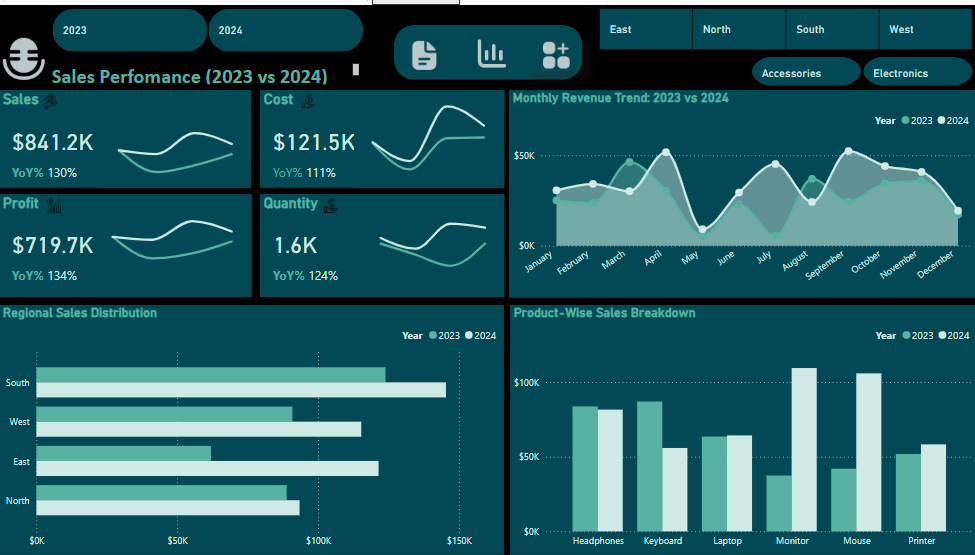

The page's visual inventory and layout, read from the dashboard file:
{"tool":"powerbi","page":{"name":"Page 1","canvas":[1280,720],"ordinal":0},"visuals":[{"type":"cardVisual","title":"Profit","fields":{"Data":["Sheet1.Sum of Sales minus Sum of Cost"]},"box":[0,247.7,331.2,135.4],"z":0},{"type":"cardVisual","title":"Quantity","fields":{"Data":["Sum(Sheet1.Quantity)"]},"box":[341.3,247.7,319.7,135.4],"z":1000},{"type":"lineChart","title":"Monthly  Revenue Trend: 2023 vs 2024","fields":{"Category":["Sheet1.Date.Variation.Date Hierarchy.Year","Sheet1.Date.Variation.Date Hierarchy.Month"],"Series":["Sheet1.Date.Variation.Date Hierarchy.Year"],"Y":["Sheet1.profit"]},"box":[668.2,110.9,612,272.2],"z":2000},{"type":"clusteredColumnChart","title":"Product-Wise Sales Breakdown","fields":{"Category":["Sheet1.Date.Variation.Date Hierarchy.Year","Sheet1.Product"],"Y":["Sum(Sheet1.Sales)"],"Series":["Sheet1.Date.Variation.Date Hierarchy.Year"]},"box":[668.3,393.3,611.7,326.7],"z":3000},{"type":"clusteredBarChart","title":"Regional Sales Distribution","fields":{"Category":["Sheet1.Region","Sheet1.Date.Variation.Date Hierarchy.Year"],"Y":["Sum(Sheet1.Sales)"],"Series":["Sheet1.Date.Variation.Date Hierarchy.Year"]},"box":[0,393.1,661,326.9],"z":4000},{"type":"cardVisual","title":"Sales","fields":{"Data":["Sum(Sheet1.Sales)"]},"box":[0,110.9,329.8,128.2],"z":5000},{"type":"lineChart","fields":{"Category":["Sheet1.Date.Variation.Date Hierarchy.Quarter"],"Y":["Sum(Sheet1.Sales)"],"Series":["Sheet1.Date.Variation.Date Hierarchy.Year"]},"box":[132.5,110.9,197.3,128.2],"z":6000},{"type":"lineChart","fields":{"Y":["Sheet1.profit"],"Series":["Sheet1.Date.Variation.Date Hierarchy.Year"],"Category":["Sheet1.Date.Variation.Date Hierarchy.Quarter"]},"box":[122.4,247.7,207.4,135.4],"z":7000},{"type":"cardVisual","title":"Cost","fields":{"Data":["Sum(Sheet1.Cost)"]},"box":[341.3,110.9,319.7,128.2],"z":8000},{"type":"advancedSlicerVisual","fields":{"Values":["Sheet1.Date.Variation.Date Hierarchy.Year"]},"box":[65,0,416.7,66.7],"z":9000},{"type":"lineChart","fields":{"Category":["Sheet1.Date.Variation.Date Hierarchy.Year","Sheet1.Date.Variation.Date Hierarchy.Quarter"],"Y":["Sum(Sheet1.Cost)"],"Series":["Sheet1.Date.Variation.Date Hierarchy.Year"]},"box":[465.1,110.9,194.4,128.2],"z":10000},{"type":"lineChart","fields":{"Category":["Sheet1.Date.Variation.Date Hierarchy.Year","Sheet1.Date.Variation.Date Hierarchy.Quarter"],"Y":["Sum(Sheet1.Quantity)"],"Series":["Sheet1.Date.Variation.Date Hierarchy.Year"]},"box":[476.6,247.7,182.9,123.8],"z":11000},{"type":"shape","box":[516.7,26.7,246.7,71.7],"z":12000},{"type":"image","box":[0,38.3,65,65],"z":13000},{"type":"image","box":[533.3,38.3,48.3,55],"z":14000},{"type":"image","box":[695,43.3,68.3,45],"z":15000},{"type":"image","box":[621.7,38.3,46.7,51.7],"z":16000},{"type":"textbox","box":[64.8,72,411.8,37.4],"z":17000},{"type":"advancedSlicerVisual","fields":{"Values":["Sheet1.Category"]},"box":[980,63.3,300,48.3],"z":18000},{"type":"advancedSlicerVisual","fields":{"Values":["Sheet1.Region"]},"box":[781.7,0,498.3,63.3],"z":19000},{"type":"image","box":[47.5,247.7,50.4,30],"z":20000},{"type":"image","box":[398.9,247.7,70,30],"z":21000},{"type":"image","box":[47.5,110.9,40.3,30],"z":22000},{"type":"image","box":[378.7,109.4,53.3,30],"z":23000}]}

Visuals, with their boxes in screenshot pixels (x1, y1, x2, y2), scaled from the page's 1280x720 canvas onto the 975x555 screenshot:
"Profit" cardVisual: bbox=[0, 191, 252, 295]
"Quantity" cardVisual: bbox=[260, 191, 503, 295]
"Monthly  Revenue Trend: 2023 vs 2024" lineChart: bbox=[509, 85, 974, 295]
"Product-Wise Sales Breakdown" clusteredColumnChart: bbox=[509, 303, 974, 554]
"Regional Sales Distribution" clusteredBarChart: bbox=[0, 303, 503, 554]
"Sales" cardVisual: bbox=[0, 85, 251, 184]
lineChart - Sheet1.Date.Variation.Date Hierarchy.Quarter x Sum(Sheet1.Sales): bbox=[101, 85, 251, 184]
lineChart - Sheet1.profit x Sheet1.Date.Variation.Date Hierarchy.Year: bbox=[93, 191, 251, 295]
"Cost" cardVisual: bbox=[260, 85, 503, 184]
advancedSlicerVisual - Sheet1.Date.Variation.Date Hierarchy.Year: bbox=[50, 0, 367, 51]
lineChart - Sheet1.Date.Variation.Date Hierarchy.Year x Sheet1.Date.Variation.Date Hierarchy.Quarter: bbox=[354, 85, 502, 184]
lineChart - Sheet1.Date.Variation.Date Hierarchy.Year x Sheet1.Date.Variation.Date Hierarchy.Quarter: bbox=[363, 191, 502, 286]
shape: bbox=[394, 21, 581, 76]
image: bbox=[0, 30, 50, 80]
image: bbox=[406, 30, 443, 72]
image: bbox=[529, 33, 581, 68]
image: bbox=[474, 30, 509, 69]
textbox: bbox=[49, 56, 363, 84]
advancedSlicerVisual - Sheet1.Category: bbox=[746, 49, 974, 86]
advancedSlicerVisual - Sheet1.Region: bbox=[595, 0, 974, 49]
image: bbox=[36, 191, 75, 214]
image: bbox=[304, 191, 357, 214]
image: bbox=[36, 85, 67, 109]
image: bbox=[288, 84, 329, 107]
